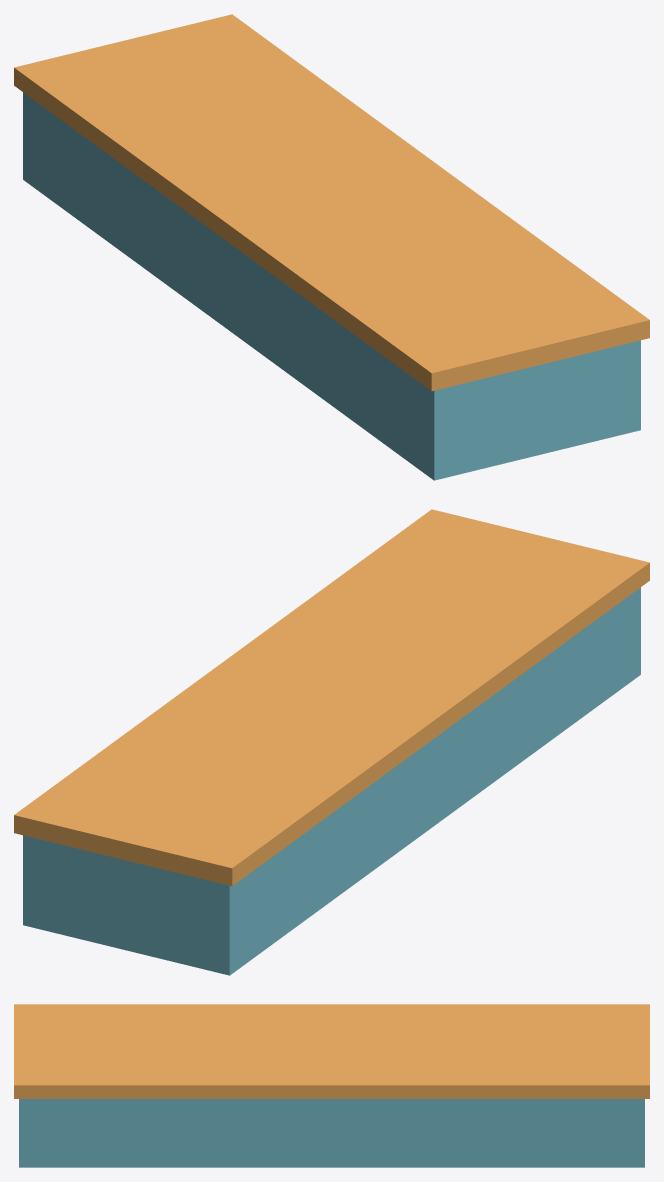
The model's file is fishing_boat.glb.
The picture shows the model from 3 angles, top to bottom: view 1: azimuth 30°, elevation 25°; view 2: azimuth 150°, elevation 25°; view 3: azimuth 270°, elevation 25°; orthographic projection. The views are drawn at different scales.
Parts seen in each view (by area): view 1: Gunwale_Node, Hull_Node; view 2: Gunwale_Node, Hull_Node; view 3: Gunwale_Node, Hull_Node.
Part boxes in pixels (x1,y1,x2,y2): Gunwale_Node: (14,14,649,391); Hull_Node: (23,92,640,480); Gunwale_Node: (14,509,649,886); Hull_Node: (23,587,640,975); Gunwale_Node: (14,1004,649,1098); Hull_Node: (19,1099,644,1167).
Bounding box in the file's own units: 1.9 × 0.925 × 6.3.
